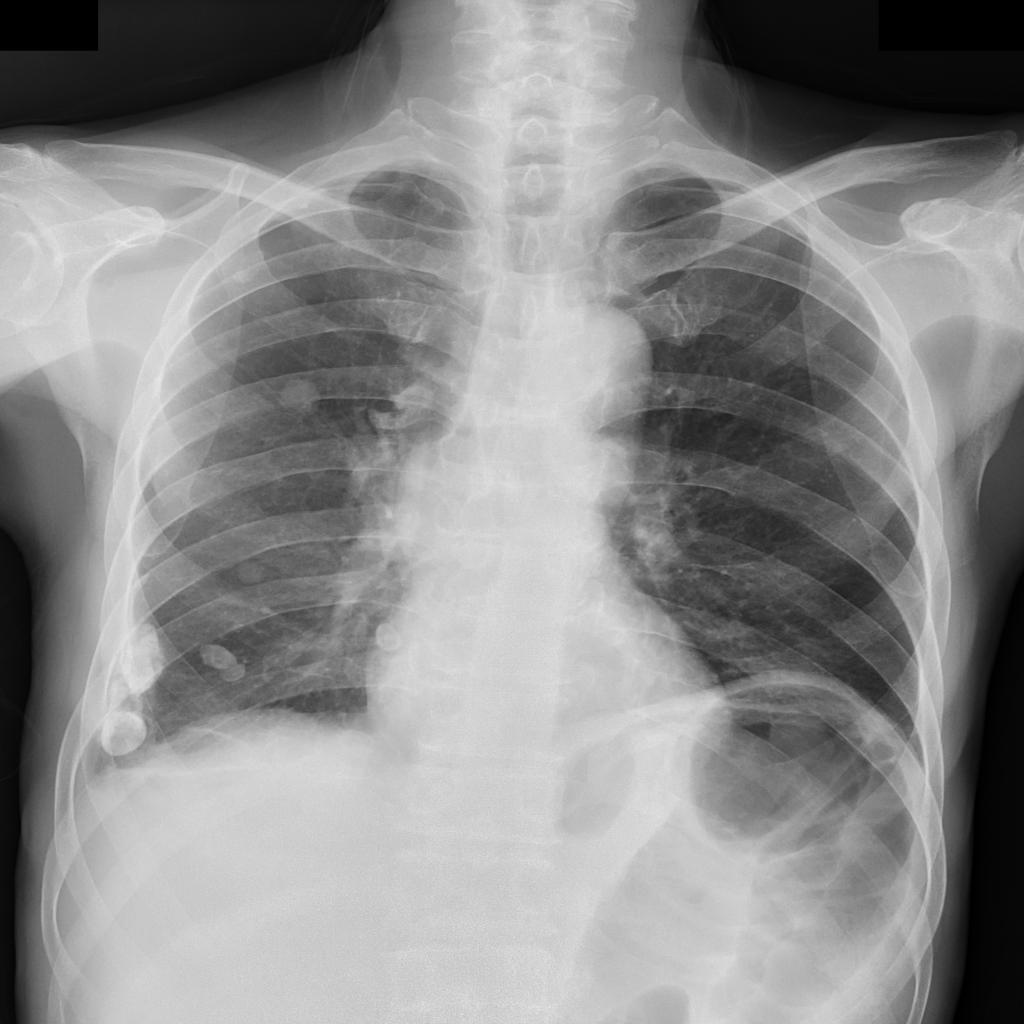Nodule: (119, 625, 165, 692), (100, 716, 144, 759), (198, 648, 242, 683), (285, 378, 323, 417), (232, 250, 273, 284), (373, 623, 404, 652), (240, 561, 269, 584), (725, 620, 748, 638)
